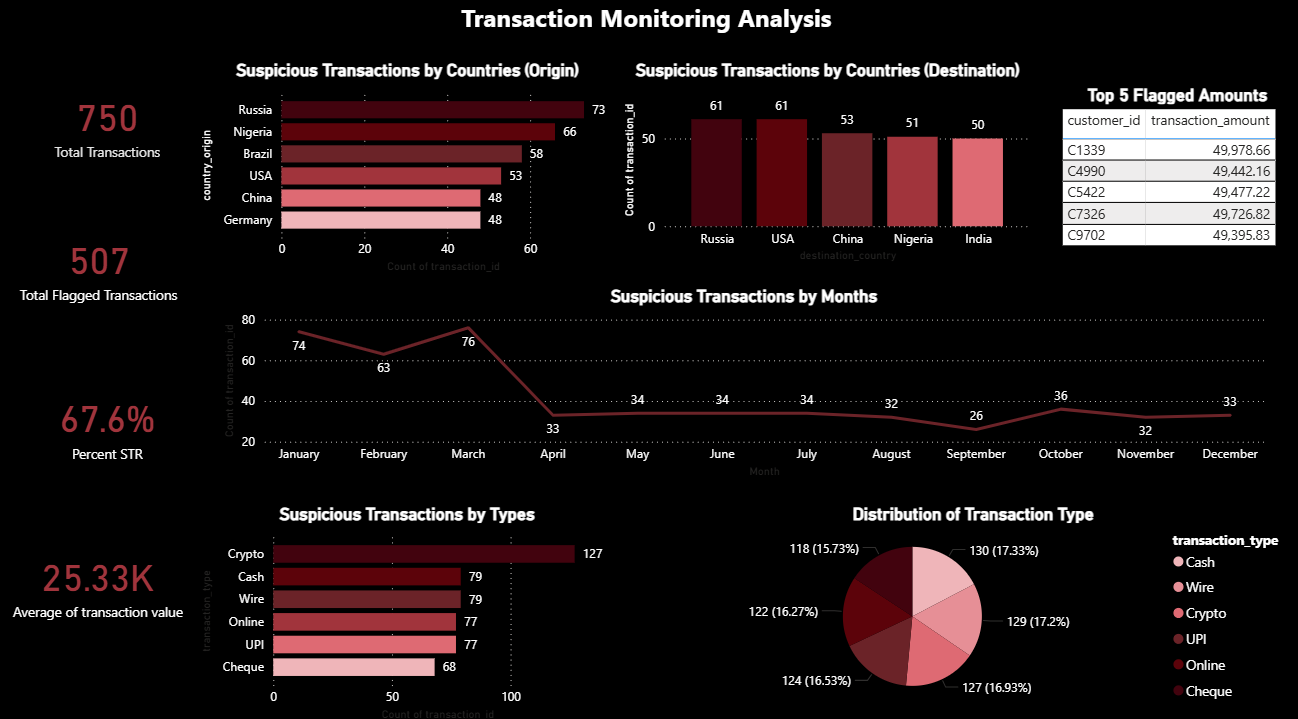

The dashboard page shown, as its layout file describes it:
{"tool":"powerbi","page":{"name":"Dashboard","canvas":[1280,720],"ordinal":0},"visuals":[{"type":"card","fields":{"Values":["Count(transaction_monitoring_dataset.transaction_id)"]},"box":[27,62.6,166.9,125.2],"z":0},{"type":"card","fields":{"Values":["Sum(transaction_monitoring_dataset.isflagged)"]},"box":[18.4,201.2,166.9,130.1],"z":1},{"type":"card","fields":{"Values":["transaction_monitoring_dataset.PercentSuspicious"]},"box":[27,365.6,166.9,111.7],"z":2},{"type":"card","fields":{"Values":["Avg(transaction_monitoring_dataset.transaction_amount)"]},"box":[8.6,521.5,185.3,111.7],"z":3},{"type":"barChart","title":"Suspicious Transactions by Countries (Origin)","fields":{"Category":["transaction_monitoring_dataset.country_origin"],"Y":["CountNonNull(transaction_monitoring_dataset.transaction_id)"]},"box":[197.8,62.2,414.2,214],"z":4},{"type":"columnChart","title":"Suspicious Transactions by Countries (Destination)","fields":{"Category":["transaction_monitoring_dataset.destination_country"],"Y":["CountNonNull(transaction_monitoring_dataset.transaction_id)"]},"box":[611.7,62,409.7,203.4],"z":5},{"type":"barChart","title":"Suspicious Transactions by Types","fields":{"Category":["transaction_monitoring_dataset.transaction_type"],"Y":["CountNonNull(transaction_monitoring_dataset.transaction_id)"]},"box":[197.8,497.6,414.2,217.7],"z":6},{"type":"lineChart","title":"Suspicious Transactions by Months","fields":{"Category":["transaction_monitoring_dataset.transaction_date.Variation.Date Hierarchy.Month"],"Y":["CountNonNull(transaction_monitoring_dataset.transaction_id)"]},"box":[220.2,284.9,1031.2,192.8],"z":7},{"type":"pieChart","title":"Distribution of Transaction Type","fields":{"Y":["CountNonNull(transaction_monitoring_dataset.transaction_id)"],"Category":["transaction_monitoring_dataset.transaction_type"]},"box":[640.6,497.6,639.4,202.8],"z":8},{"type":"tableEx","title":"Top 5 Flagged Amounts","fields":{"Values":["transaction_monitoring_dataset.customer_id","transaction_monitoring_dataset.transaction_amount"]},"box":[1041.7,86.6,238.1,178.9],"z":9},{"type":"textbox","box":[134.2,0,1011.4,44.7],"z":10}]}

Visuals, with their boxes in screenshot pixels (x1, y1, x2, y2), scaled from the page's 1280x720 canvas onto the 1298x719 screenshot:
card - Count(transaction_monitoring_dataset.transaction_id): 27, 63, 197, 188
card - Sum(transaction_monitoring_dataset.isflagged): 19, 201, 188, 331
card - transaction_monitoring_dataset.PercentSuspicious: 27, 365, 197, 477
card - Avg(transaction_monitoring_dataset.transaction_amount): 9, 521, 197, 632
"Suspicious Transactions by Countries (Origin)" barChart: 201, 62, 621, 276
"Suspicious Transactions by Countries (Destination)" columnChart: 620, 62, 1036, 265
"Suspicious Transactions by Types" barChart: 201, 497, 621, 714
"Suspicious Transactions by Months" lineChart: 223, 285, 1269, 477
"Distribution of Transaction Type" pieChart: 650, 497, 1297, 699
"Top 5 Flagged Amounts" tableEx: 1056, 86, 1297, 265
textbox: 136, 0, 1162, 45
